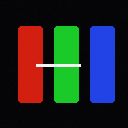3 line_h: (36, 64, 80, 66)
